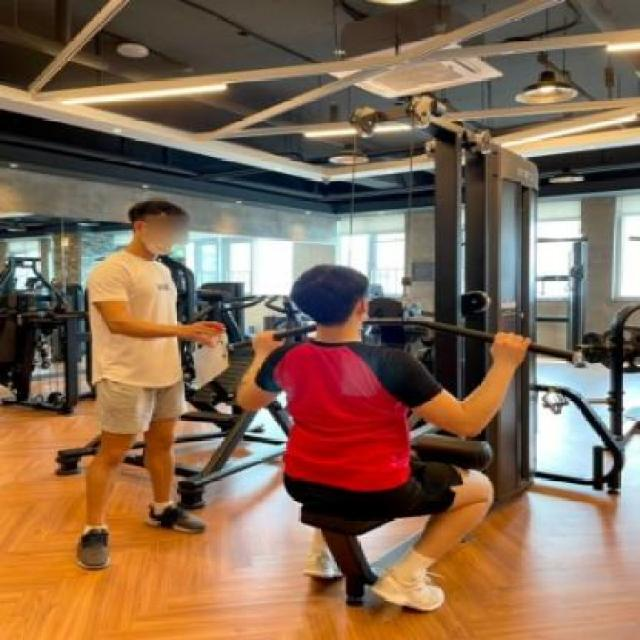Lat Pull Down: (75, 78, 640, 614)
